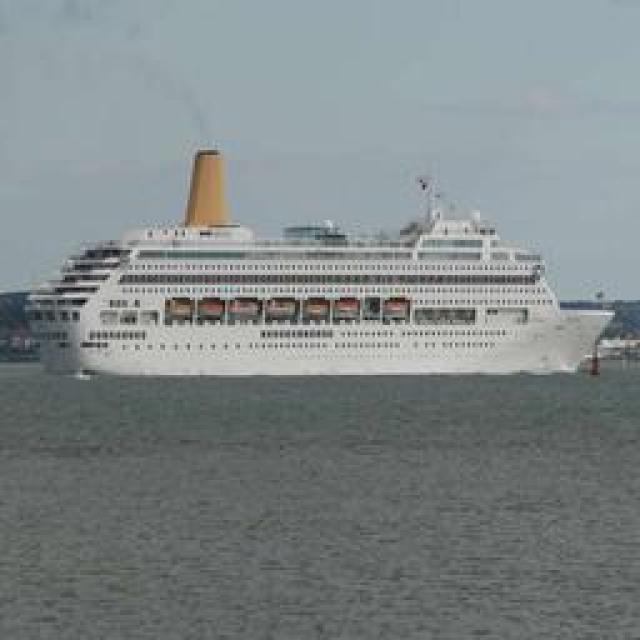CIV_Ship: (30, 155, 602, 380)
